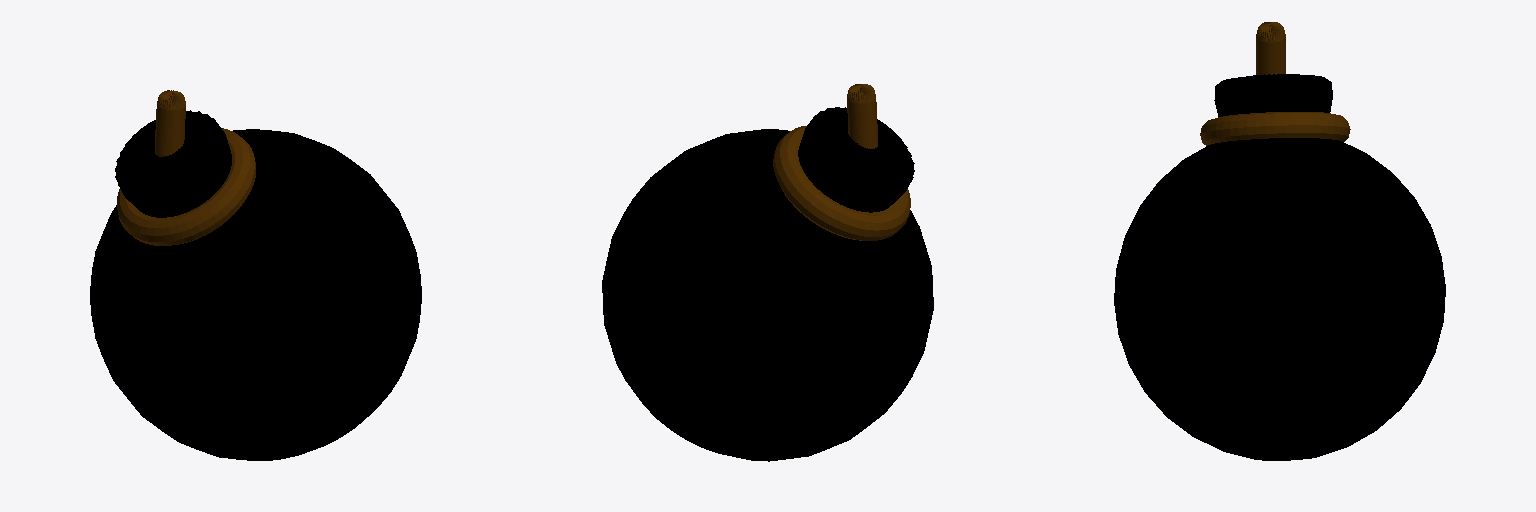
The model's file is bomb.obj.
3 renders of one model, left to right at view 1: azimuth 30°, elevation 25°; view 2: azimuth 150°, elevation 25°; view 3: azimuth 270°, elevation 25°, orthographic.
Visible parts, largest first — view 1: Sphere, Cylinder_Cylinder.001, Torus, Cylinder.001_Cylinder.002; view 2: Sphere, Cylinder_Cylinder.001, Torus, Cylinder.001_Cylinder.002; view 3: Sphere, Cylinder_Cylinder.001, Torus, Cylinder.001_Cylinder.002.
Boxes of the visible parts, x1,y1,x2,y2 form: Sphere: [90, 129, 421, 460]; Cylinder_Cylinder.001: [115, 110, 231, 217]; Torus: [117, 128, 255, 245]; Cylinder.001_Cylinder.002: [155, 90, 185, 156]; Sphere: [602, 129, 933, 461]; Cylinder_Cylinder.001: [798, 107, 914, 212]; Torus: [773, 126, 910, 240]; Cylinder.001_Cylinder.002: [847, 84, 877, 148]; Sphere: [1114, 138, 1445, 460]; Cylinder_Cylinder.001: [1214, 74, 1332, 116]; Torus: [1200, 112, 1350, 145]; Cylinder.001_Cylinder.002: [1256, 22, 1285, 74].
Bounding box in the file's own units: 1.99 × 2.51 × 1.99.